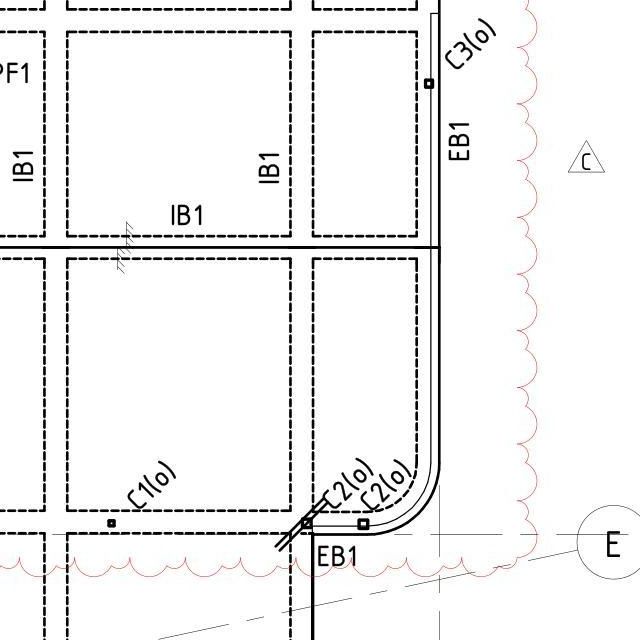EB1: (305, 536, 366, 575), (442, 116, 479, 165)
IB1: (158, 195, 228, 240), (242, 136, 291, 193), (0, 144, 45, 191)
PF1: (0, 46, 38, 93)
